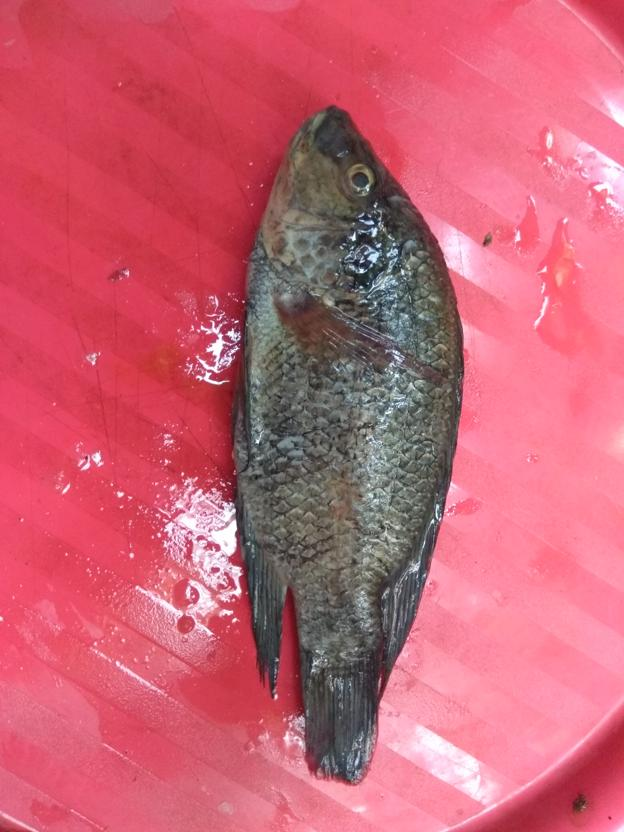Fish head: (251, 105, 413, 296)
Fish tail: (296, 645, 380, 789)
